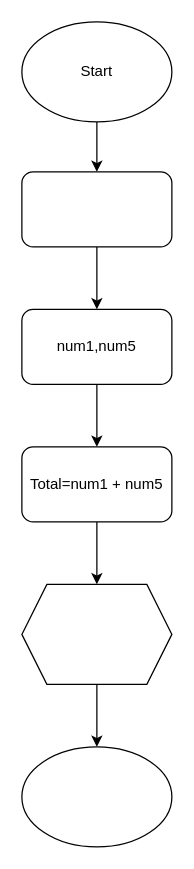
This 194x869 diagram has some shape labels left out. The centre of each missing label's shape, as x and y in pixels:
num1,num5,total: point 96,209
Total: point 96,633
